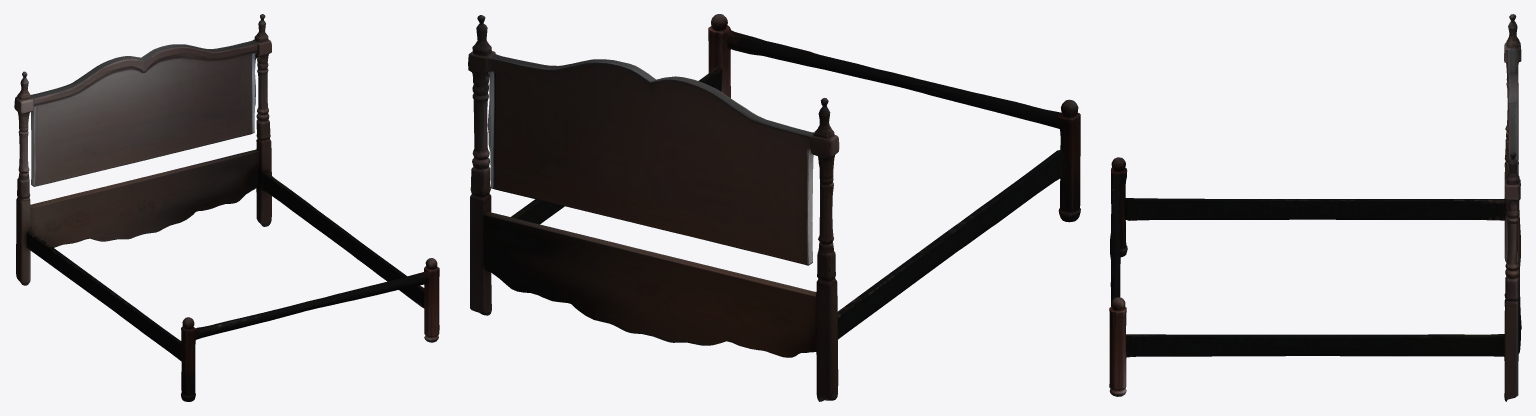
The model's file is ast_7a8fbee4cbc2.glb.
The picture shows the model from 3 angles, left to right: view 1: azimuth 30°, elevation 25°; view 2: azimuth 150°, elevation 25°; view 3: azimuth 270°, elevation 25°; orthographic projection. The views are drawn at different scales.
Visible parts, largest first — view 1: geometry_0; view 2: geometry_0; view 3: geometry_0.
Part boxes in pixels (x1=…): geometry_0: x1=14, y1=14, x2=439, y2=401; geometry_0: x1=468, y1=14, x2=1080, y2=401; geometry_0: x1=1109, y1=14, x2=1521, y2=401.
Bounding box in the file's own units: 0.8431 × 0.6668 × 0.9973.
Materials: 1 (1 with a texture image).
